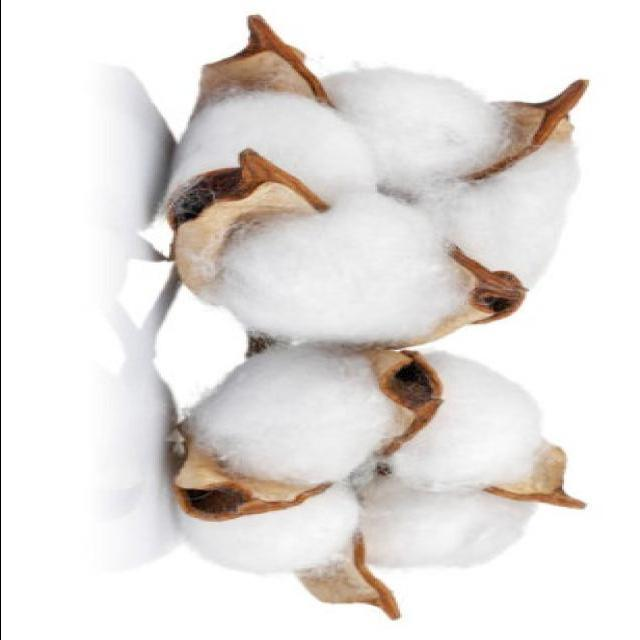Matured Cotton Boll: (131, 13, 596, 351), (169, 349, 593, 619)
